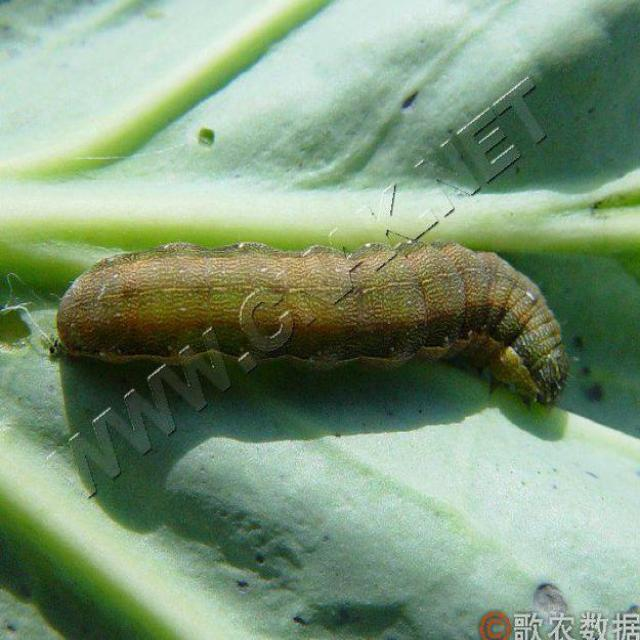BeetArmyWorm-Larva-: (49, 225, 580, 422)
